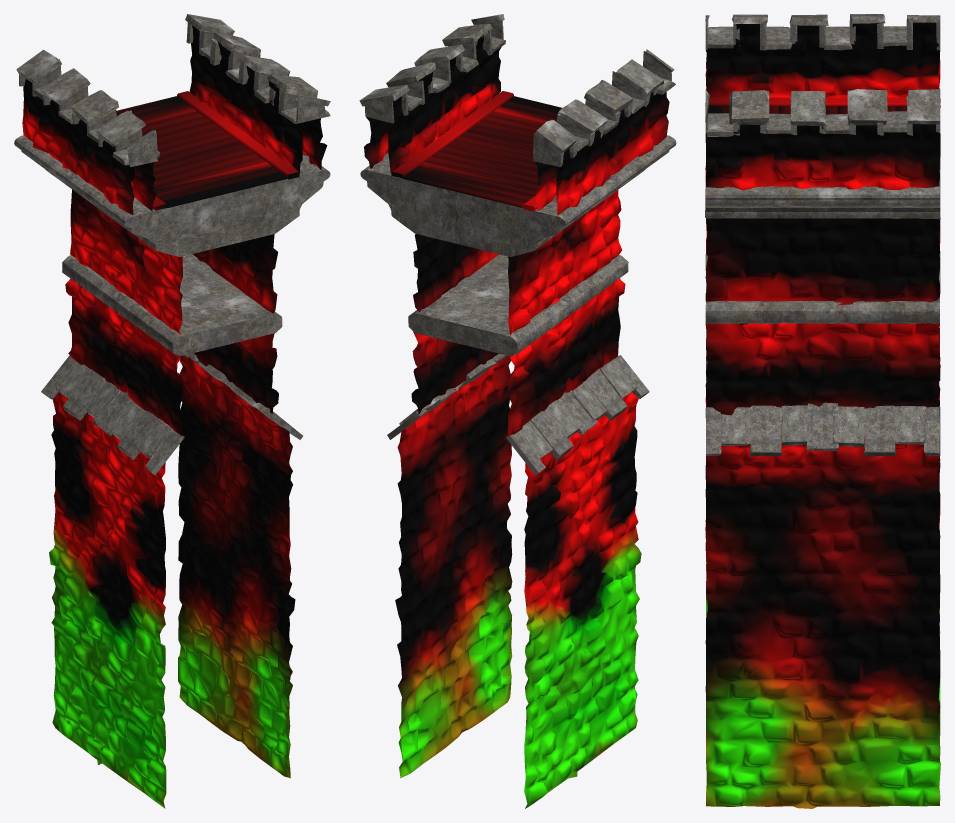
File: SM_Curtain_Wall_01.fbx
The picture shows the model from 3 angles, left to right: view 1: azimuth 30°, elevation 25°; view 2: azimuth 150°, elevation 25°; view 3: azimuth 270°, elevation 25°; orthographic projection. The views are drawn at different scales.
Visible parts, largest first — view 1: SM_Curtain_Wall_01_LOD0; view 2: SM_Curtain_Wall_01_LOD0; view 3: SM_Curtain_Wall_01_LOD0.
Part boxes in pixels (bbox=[...]): SM_Curtain_Wall_01_LOD0: bbox=[14, 14, 330, 808]; SM_Curtain_Wall_01_LOD0: bbox=[359, 14, 676, 808]; SM_Curtain_Wall_01_LOD0: bbox=[705, 14, 940, 808].
Bounding box in the file's own units: 432 × 403 × 1363.
